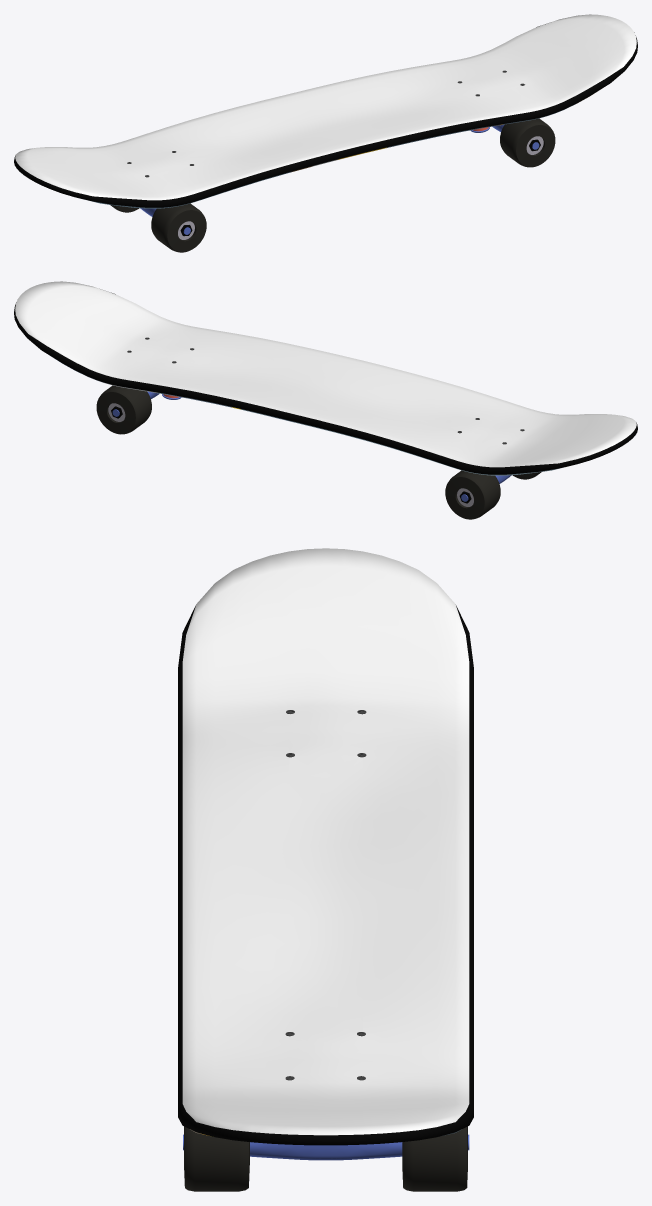
Rendered from Skate.glb.
3 views of the same model, one above another, from view 1: azimuth 30°, elevation 25°; view 2: azimuth 150°, elevation 25°; view 3: azimuth 270°, elevation 25° (orthographic). The views are drawn at different scales.
Parts seen in each view (by area): view 1: Object_3, Object_7, Object_6, Object_2; view 2: Object_3, Object_7, Object_6, Object_2; view 3: Object_3, Object_7, Object_6, Object_9.
Part boxes in pixels (bbox=[...]): Object_3: bbox=[15, 14, 636, 200]; Object_7: bbox=[14, 24, 637, 207]; Object_6: bbox=[110, 118, 555, 252]; Object_2: bbox=[81, 89, 600, 208]; Object_3: bbox=[15, 281, 636, 467]; Object_7: bbox=[14, 292, 637, 474]; Object_6: bbox=[96, 385, 541, 519]; Object_2: bbox=[51, 356, 570, 475]; Object_3: bbox=[182, 548, 469, 1135]; Object_7: bbox=[178, 605, 473, 1145]; Object_6: bbox=[184, 1126, 467, 1191]; Object_9: bbox=[250, 1142, 402, 1160].
Bounding box in the file's own units: 18.82 × 2.61 × 4.
9 materials, 1 textured.
